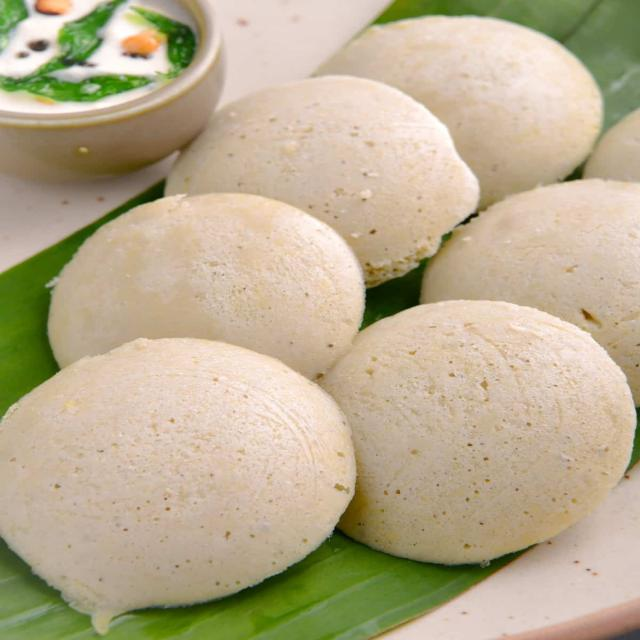idli: (11, 332, 352, 620), (300, 307, 633, 553), (39, 193, 365, 393), (167, 76, 479, 276), (333, 16, 582, 190), (418, 184, 633, 363), (564, 86, 639, 198)
